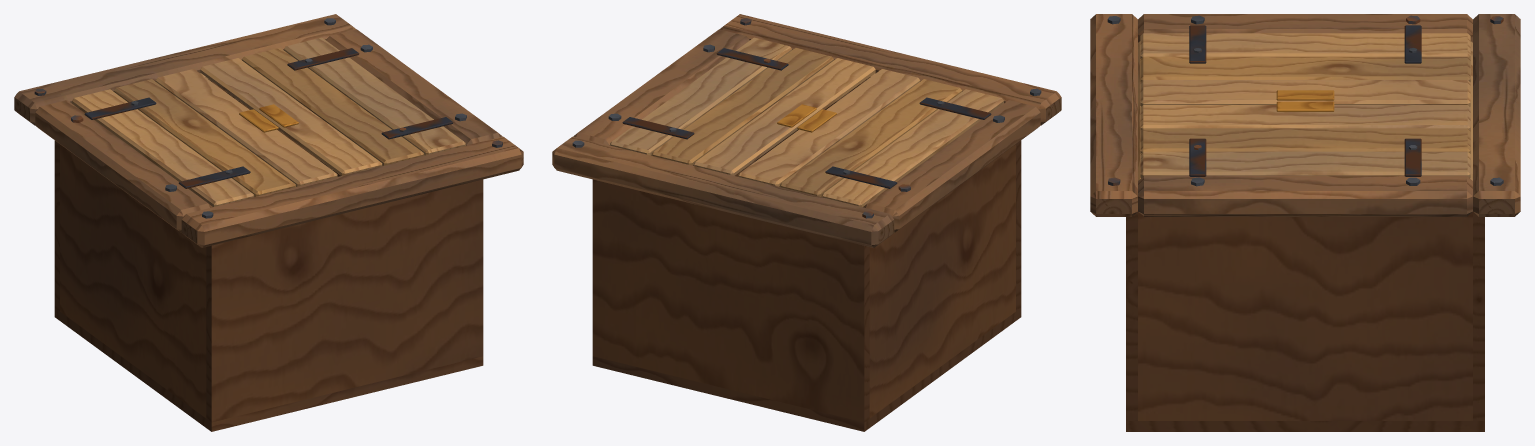
File: cukur_kapagi.glb
3 renders of one model, left to right at view 1: azimuth 30°, elevation 25°; view 2: azimuth 150°, elevation 25°; view 3: azimuth 270°, elevation 25°, orthographic. The views are drawn at different scales.
Visible parts, largest first — view 1: pit, cukur_kapagi, leaf_r, leaf_l; view 2: pit, cukur_kapagi, leaf_r, leaf_l; view 3: pit, cukur_kapagi, leaf_l, leaf_r.
Part boxes in pixels (x1,y1,x2,y2): pit: (54, 82, 483, 431); cukur_kapagi: (14, 14, 523, 247); leaf_r: (200, 37, 465, 175); leaf_l: (72, 69, 337, 207); pit: (592, 82, 1021, 431); cukur_kapagi: (552, 14, 1061, 247); leaf_r: (610, 37, 875, 175); leaf_l: (738, 69, 1003, 207); pit: (1126, 212, 1484, 431); cukur_kapagi: (1090, 14, 1520, 216); leaf_l: (1140, 25, 1470, 106); leaf_r: (1140, 101, 1470, 177).
Size of the model in its own units: 1.8 by 1.19 by 1.8.
Materials: 1 (1 with a texture image).
